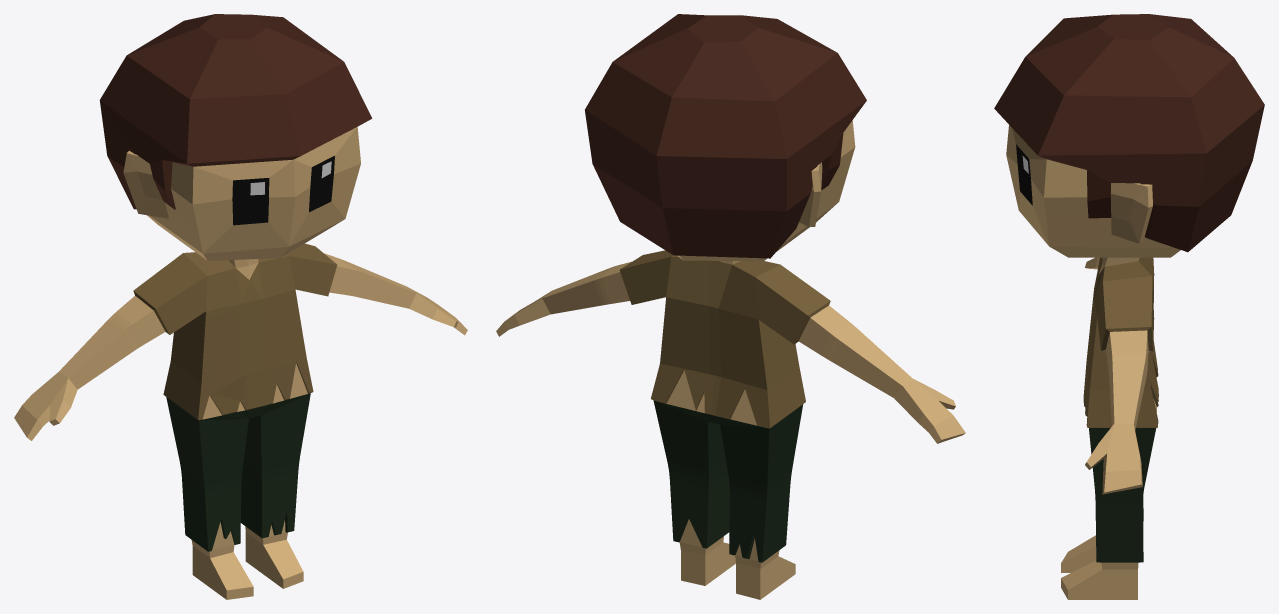
Rendered from CharacterBoy.fbx.
3 views of the same model, side by side, from view 1: azimuth 30°, elevation 25°; view 2: azimuth 150°, elevation 25°; view 3: azimuth 270°, elevation 25° (orthographic). The views are drawn at different scales.
Parts seen in each view (by area): view 1: Character; view 2: Character; view 3: Character.
Boxes of the visible parts, x1,y1,x2,y2 form: Character: [14, 14, 467, 599]; Character: [496, 14, 965, 599]; Character: [994, 14, 1264, 599].
Bounding box in the file's own units: 323 × 378 × 168.
